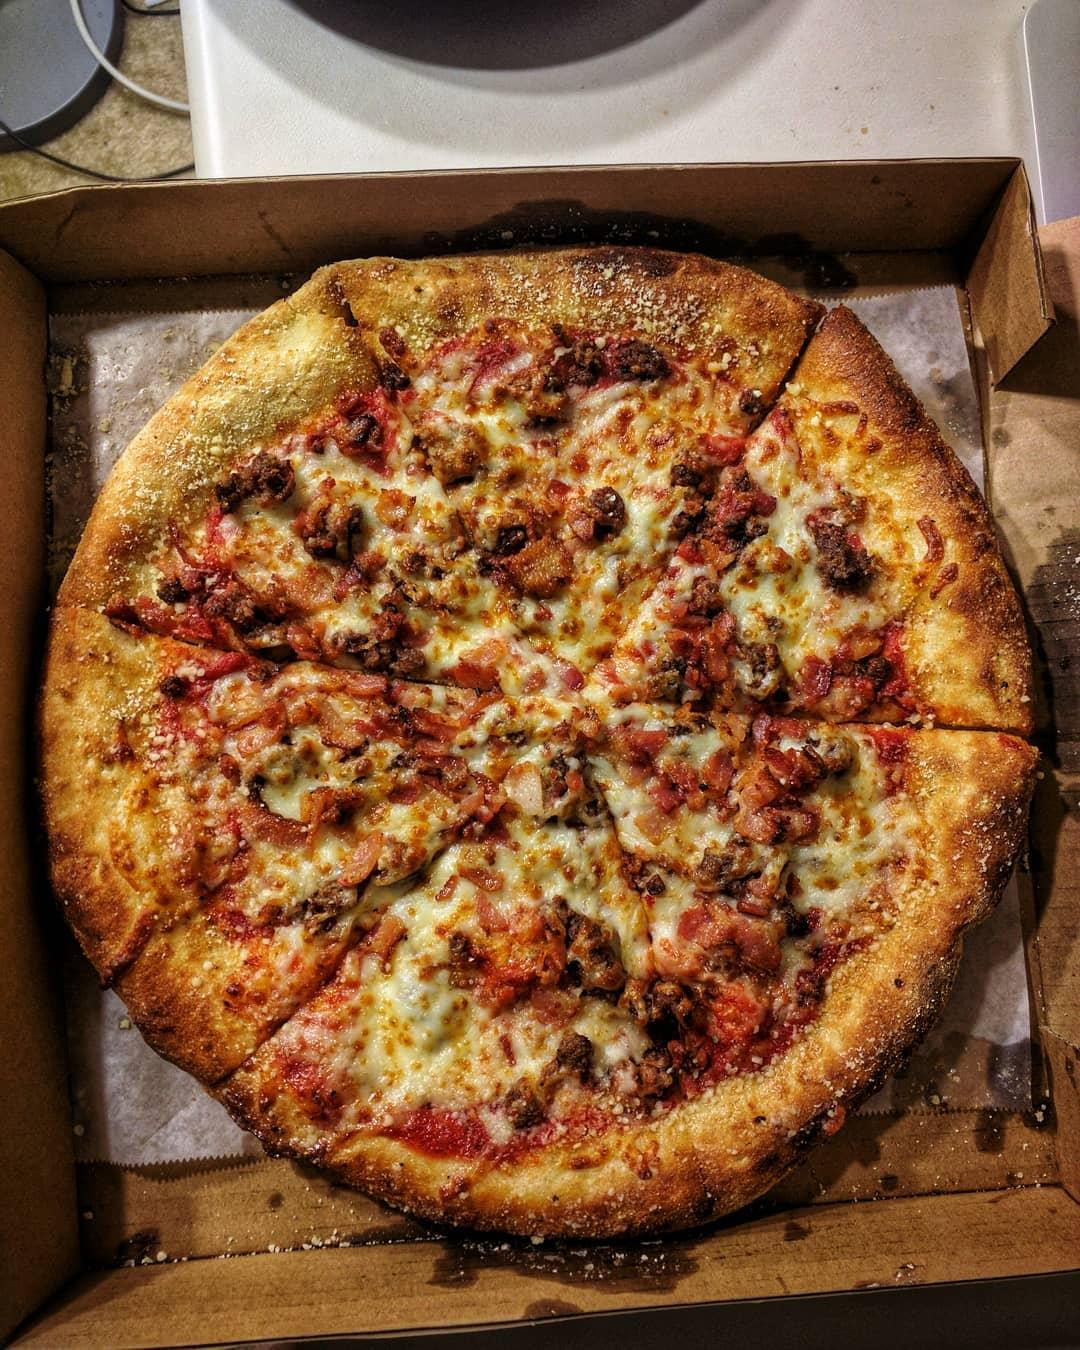Pizza: (32, 252, 1054, 1244)
